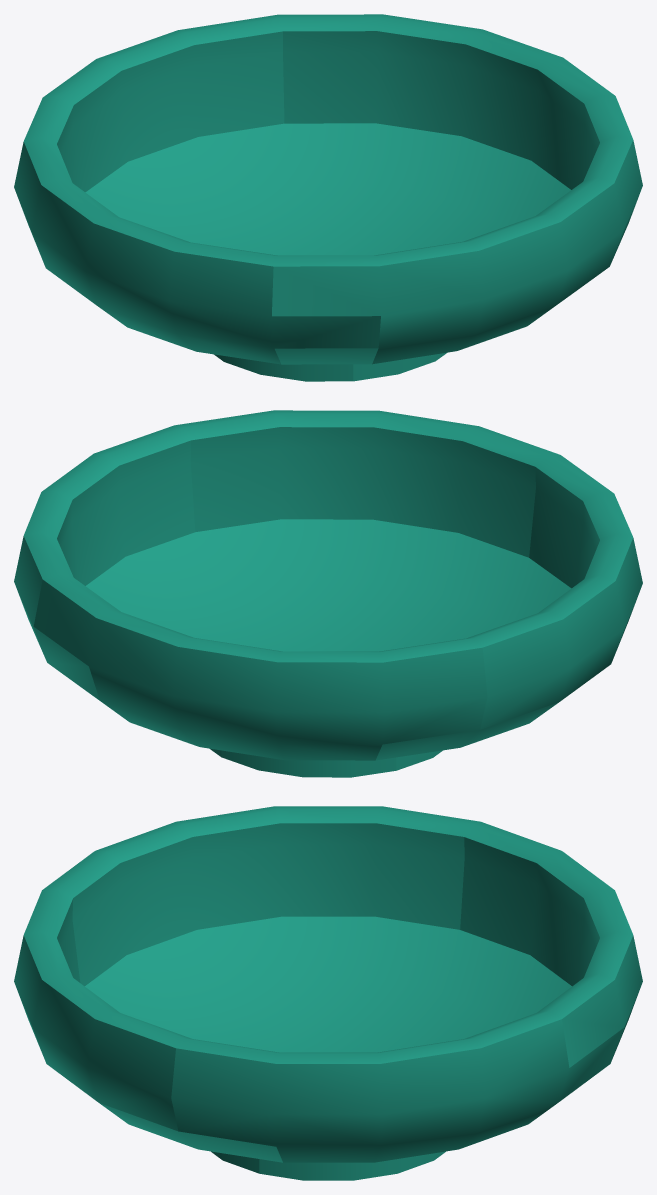
Rendered from bowls_b.glb.
3 renders of one model, top to bottom at view 1: azimuth 30°, elevation 25°; view 2: azimuth 150°, elevation 25°; view 3: azimuth 270°, elevation 25°, orthographic.
Visible parts, largest first — view 1: body; view 2: body; view 3: body.
Part boxes in pixels (x1,y1,x2,y2): body: [14, 14, 642, 381]; body: [14, 410, 642, 777]; body: [14, 806, 642, 1180].
Bounding box in the file's own units: 0.18 × 0.06 × 0.18.
